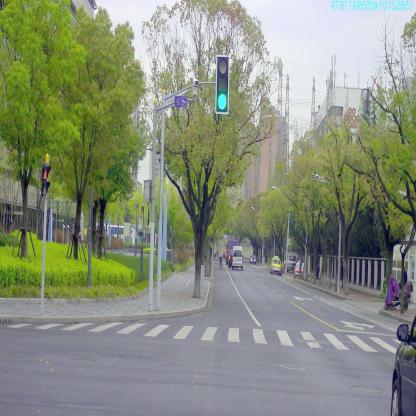traffic-light: (216, 56, 229, 113)
